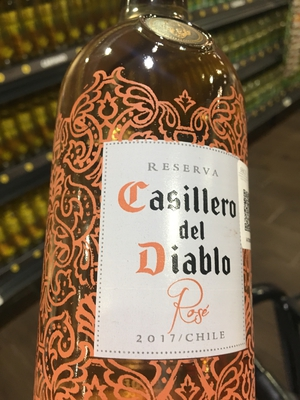casillero del diablo rose: (41, 8, 254, 400)
